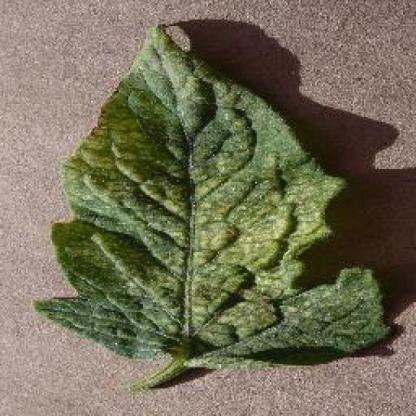Tomato_Spider_Mites: (37, 25, 393, 360)
